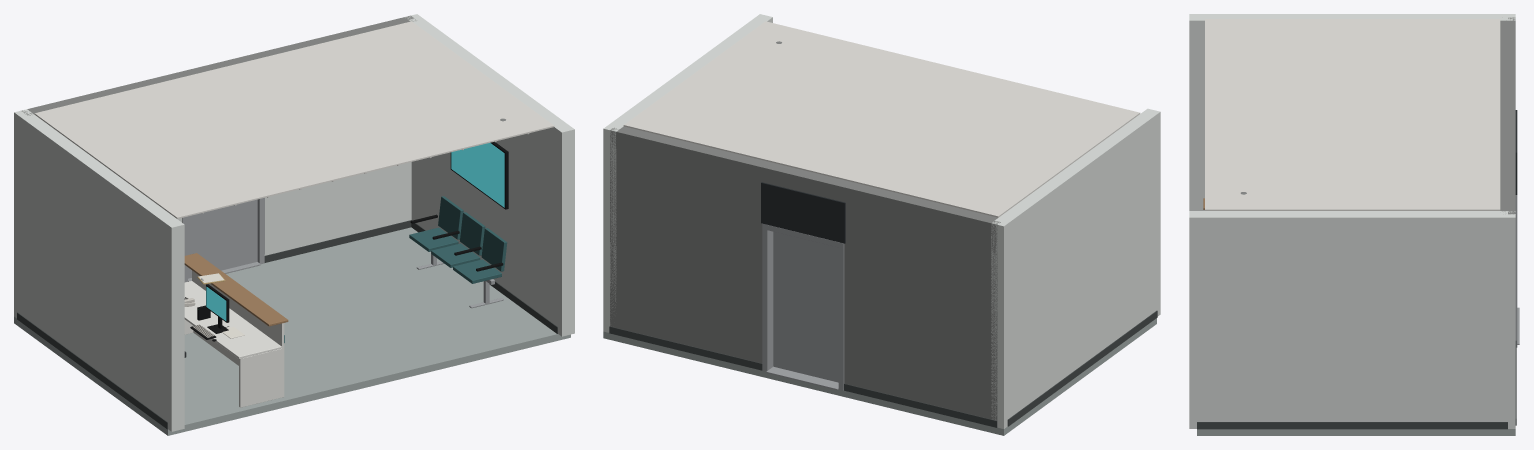
File: ENV_ResearchReception.glb
3 views of the same model, side by side, from view 1: azimuth 30°, elevation 25°; view 2: azimuth 150°, elevation 25°; view 3: azimuth 270°, elevation 25° (orthographic). The views are drawn at different scales.
Parts seen in each view (by area): view 1: ENV_ResearchReception_Architecture, ENV_ResearchReception_Ceiling, ENV_ResearchReception_Posts, PROP_Counter_Reception_Mesh, PROP_Seating_Waiting_3_Mesh, PROP_Door_Elevator_Leaf_R, PROP_Display_Wall_65_Screens, PROP_Door_Elevator_Leaf_L, PROP_Door_Elevator_Frame, PROP_Terminal_EHR_Mesh; view 2: ENV_ResearchReception_Architecture, ENV_ResearchReception_Ceiling, ENV_ResearchReception_Posts, PROP_Door_Elevator_Frame, PROP_Door_Elevator_Leaf_R, PROP_Door_Elevator_Leaf_L; view 3: ENV_ResearchReception_Architecture, ENV_ResearchReception_Ceiling, ENV_ResearchReception_Posts, PROP_Door_Elevator_Frame.
Boxes of the visible parts, x1,y1,x2,y2 form: ENV_ResearchReception_Architecture: (14,15,570,435); ENV_ResearchReception_Ceiling: (34,21,554,218); ENV_ResearchReception_Posts: (14,14,574,431); PROP_Counter_Reception_Mesh: (184,253,288,407); PROP_Seating_Waiting_3_Mesh: (409,196,507,308); PROP_Door_Elevator_Leaf_R: (222,199,257,270); PROP_Display_Wall_65_Screens: (451,143,504,207); PROP_Door_Elevator_Leaf_L: (188,208,221,278); PROP_Door_Elevator_Frame: (182,198,264,282); PROP_Terminal_EHR_Mesh: (190,284,229,341); ENV_ResearchReception_Architecture: (603,17,1157,435); ENV_ResearchReception_Ceiling: (623,21,1140,217); ENV_ResearchReception_Posts: (603,14,1160,428); PROP_Door_Elevator_Frame: (761,182,845,390); PROP_Door_Elevator_Leaf_R: (773,231,808,375); PROP_Door_Elevator_Leaf_L: (808,240,838,382); ENV_ResearchReception_Architecture: (1197,14,1516,435); ENV_ResearchReception_Ceiling: (1205,19,1500,210); ENV_ResearchReception_Posts: (1189,14,1515,428); PROP_Door_Elevator_Frame: (1515,110,1519,347).
Size of what is drawn, in the model's own units: 6.22 by 3.13 by 4.25.
